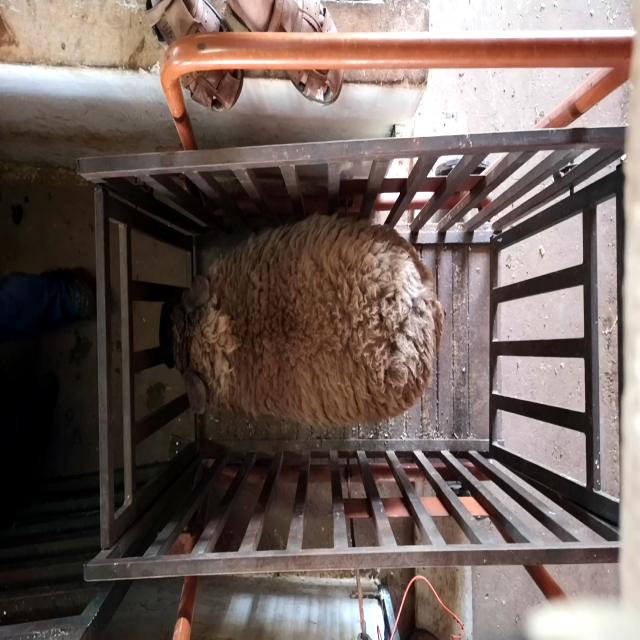sheep: (158, 214, 446, 427)
